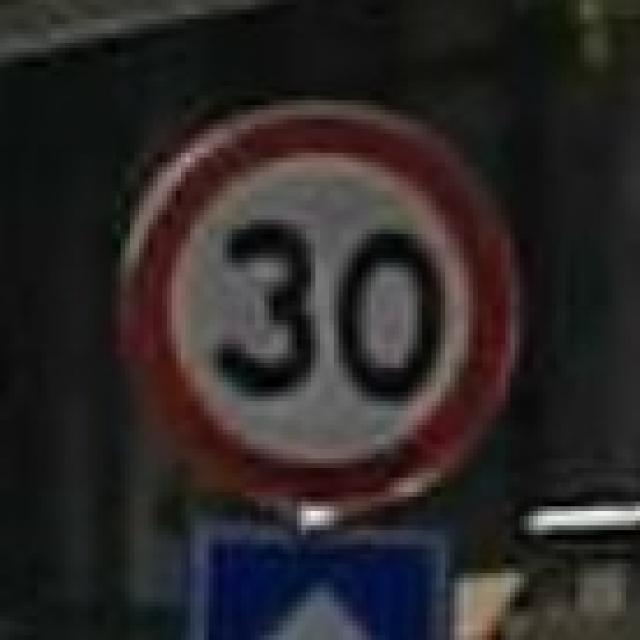Speed Limit -30-: (209, 215, 451, 403)
